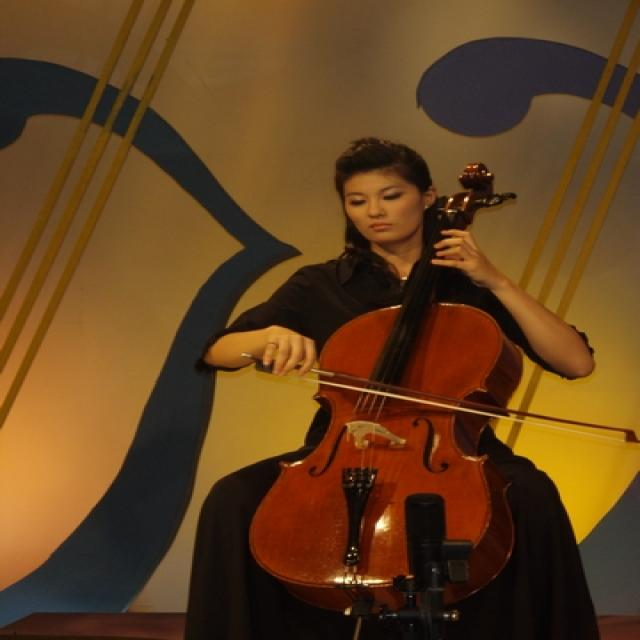cello: (241, 160, 525, 617)
